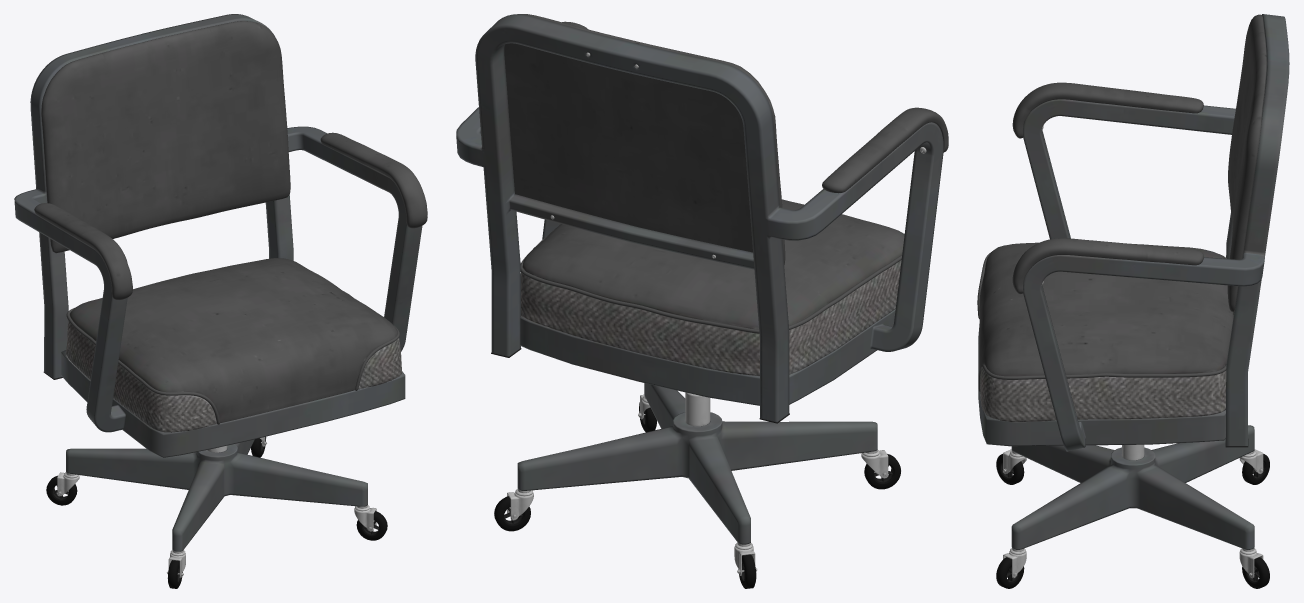
3 views of the same model, side by side, from view 1: azimuth 30°, elevation 25°; view 2: azimuth 150°, elevation 25°; view 3: azimuth 270°, elevation 25° (orthographic). The views are drawn at different scales.
Parts seen in each view (by area): view 1: Cube.018, Cube.016, Cube.004, Cylinder.002, Cube.019, Cube.017; view 2: Cube.004, Cube.018, Cube.016, Cylinder.002, Cube.019, Cube.017, Cylinder; view 3: Cube.016, Cube.004, Cylinder.002, Cube.019, Cube.018, Cube.017, Cylinder.006, Cylinder.004.
Part boxes in pixels (x1,y1,x2,y2): Cube.018: [41, 21, 290, 253]; Cube.016: [66, 258, 402, 432]; Cube.004: [14, 14, 422, 457]; Cylinder.002: [66, 439, 367, 551]; Cube.019: [34, 132, 427, 299]; Cube.017: [66, 291, 399, 424]; Cube.004: [456, 14, 943, 422]; Cube.018: [504, 14, 785, 264]; Cube.016: [520, 199, 904, 376]; Cylinder.002: [517, 383, 877, 544]; Cube.019: [562, 21, 948, 193]; Cube.017: [520, 225, 901, 333]; Cylinder: [685, 392, 710, 426]; Cube.016: [979, 242, 1233, 422]; Cube.004: [978, 14, 1289, 451]; Cylinder.002: [1011, 425, 1254, 549]; Cube.019: [1012, 82, 1203, 294]; Cube.018: [1227, 14, 1266, 311]; Cube.017: [977, 252, 1234, 391]; Cylinder.006: [1242, 557, 1269, 588]; Cylinder.004: [996, 557, 1024, 588].
Bounding box in the file's own units: 0.5919 × 0.7874 × 0.4697.
Materials: 22 (22 with a texture image).
